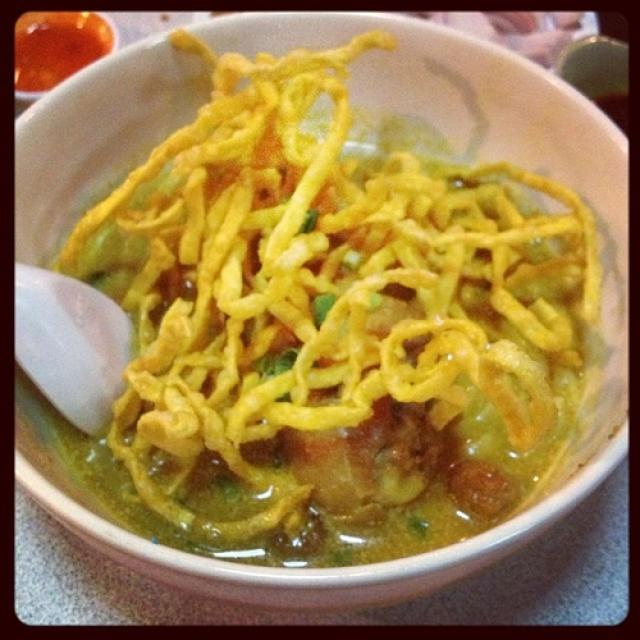面条主食: (32, 26, 634, 586)
